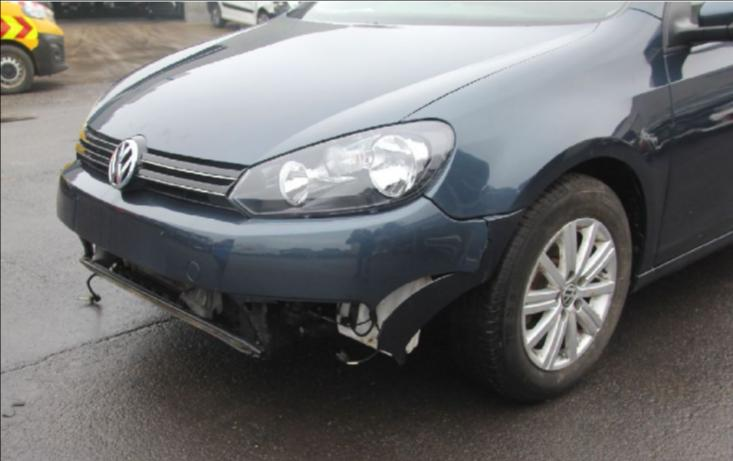Broken part: (53, 161, 519, 364)
Missing part: (242, 302, 375, 361)
